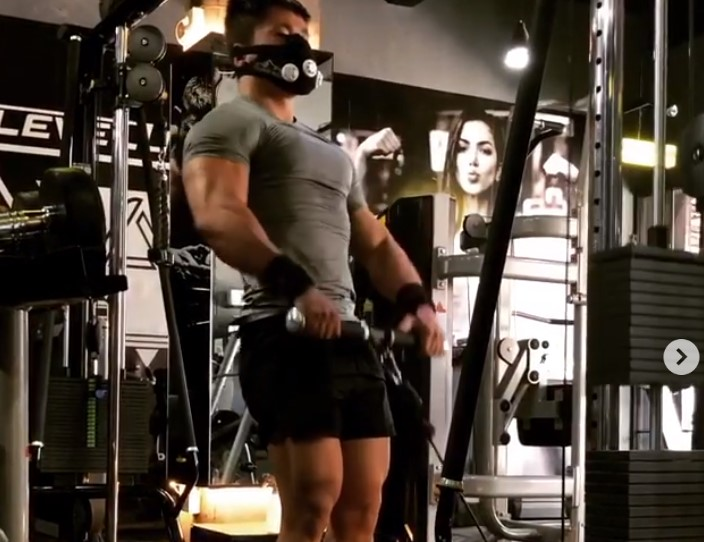face_with_mask: (224, 1, 327, 102)
